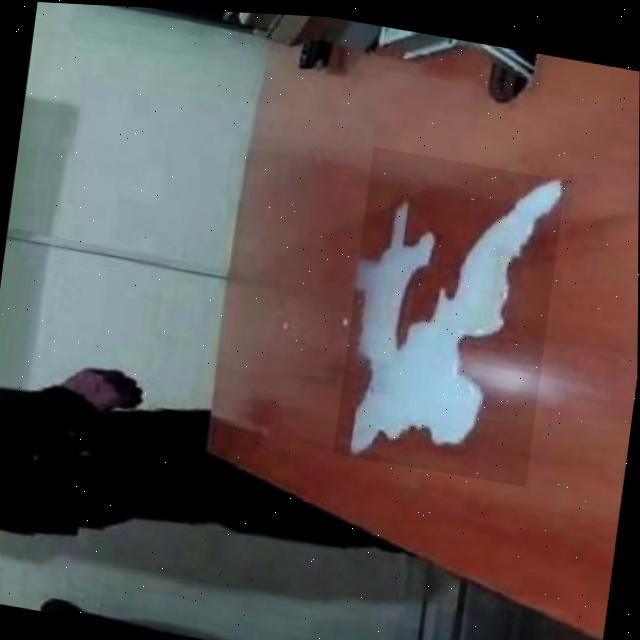spillage: (352, 171, 565, 452)
